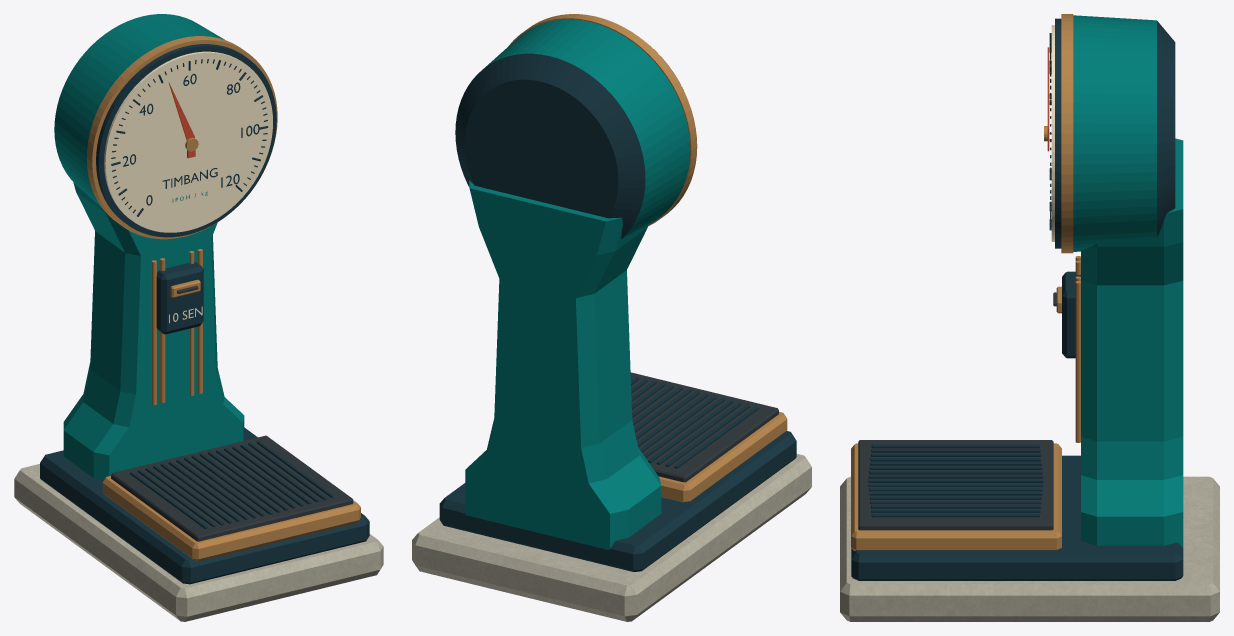
The picture shows the model from 3 angles, left to right: view 1: azimuth 30°, elevation 25°; view 2: azimuth 150°, elevation 25°; view 3: azimuth 270°, elevation 25°; orthographic projection. The views are drawn at different scales.
Visible parts, largest first — view 1: Enamel column, Porcelain dial, Stone sill, Ribbed rubber tread, Cast foot, Round movement case, Nonslip ribs, Bezel, Floating load plate, Coin acceptor, Brass flutes, Calibration ticks (+1 smaller); view 2: Enamel column, Round movement case, Stone sill, Cast foot, Ribbed rubber tread, Nonslip ribs, Floating load plate, Bezel; view 3: Enamel column, Round movement case, Stone sill, Nonslip ribs, Cast foot, Ribbed rubber tread, Floating load plate, Bezel, Coin acceptor, Brass flutes, Porcelain dial.
Boxes of the visible parts, x1,y1,x2,y2 form: Enamel column: (63,182,244,480); Porcelain dial: (104,51,272,232); Stone sill: (14,464,383,621); Ribbed rubber tread: (111,435,353,541); Cast foot: (40,427,369,584); Round movement case: (54,14,224,207); Nonslip ribs: (130,440,334,528); Bezel: (87,36,277,239); Floating load plate: (102,476,360,561); Coin acceptor: (156,261,203,334); Brass flutes: (151,249,202,404); Calibration ticks: (111,59,268,216); Enamel column: (465,180,661,550); Round movement case: (455,19,690,238); Stone sill: (412,454,811,621); Cast foot: (439,431,796,571); Ribbed rubber tread: (630,372,778,482); Nonslip ribs: (631,377,758,468); Floating load plate: (659,412,787,502); Bezel: (508,14,697,226); Enamel column: (1081,138,1183,547); Round movement case: (1073,15,1175,251); Stone sill: (840,476,1219,621); Nonslip ribs: (868,444,1043,517); Cast foot: (851,455,1183,580); Ribbed rubber tread: (858,440,1053,530); Floating load plate: (851,443,1061,551); Bezel: (1055,14,1073,253); Coin acceptor: (1062,271,1080,358); Brass flutes: (1075,256,1080,442); Porcelain dial: (1051,25,1054,241).
Bounding box in the file's own units: 0.84 × 1.88 × 1.19.
Materials: 7 (1 with a texture image).
